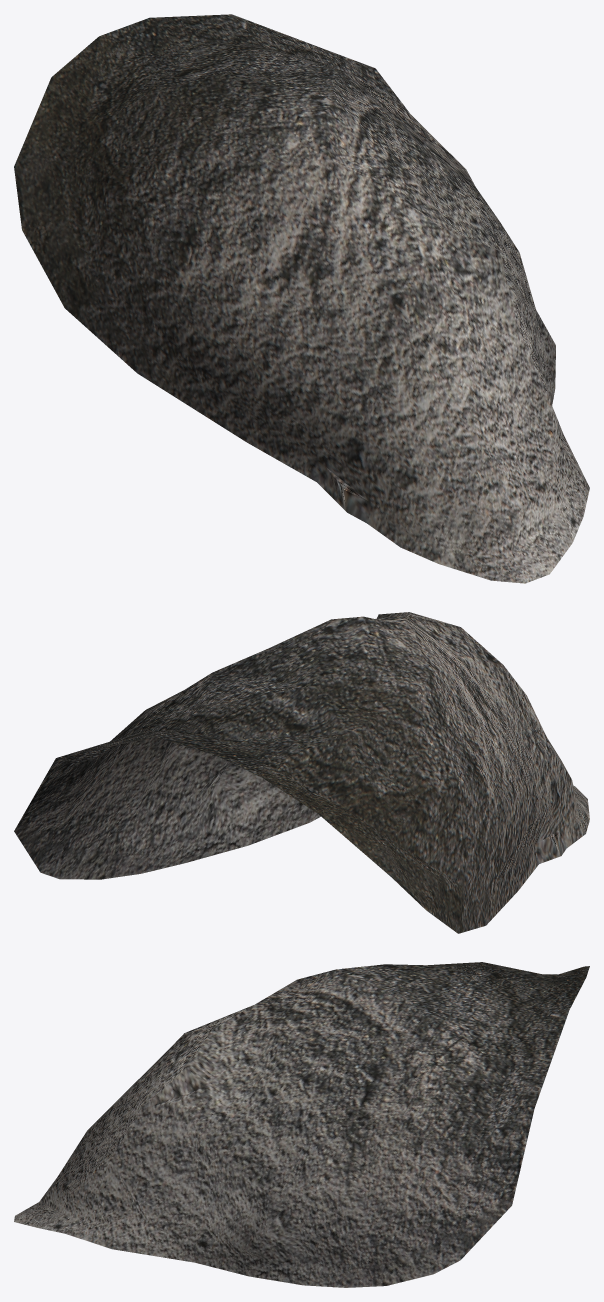
The model's file is pile_of_iron_powder.fbx.
3 renders of one model, top to bottom at view 1: azimuth 30°, elevation 25°; view 2: azimuth 150°, elevation 25°; view 3: azimuth 270°, elevation 25°, orthographic. The views are drawn at different scales.
Parts seen in each view (by area): view 1: hromada_pisek_01_30k; view 2: hromada_pisek_01_30k; view 3: hromada_pisek_01_30k.
Boxes of the visible parts, box(x1,y1,x2,y2) form: hromada_pisek_01_30k: box(14, 14, 589, 583); hromada_pisek_01_30k: box(14, 612, 589, 933); hromada_pisek_01_30k: box(14, 962, 589, 1287).
Bounding box in the file's own units: 98.32 × 70.53 × 148.
Materials: 1 (1 with a texture image).
